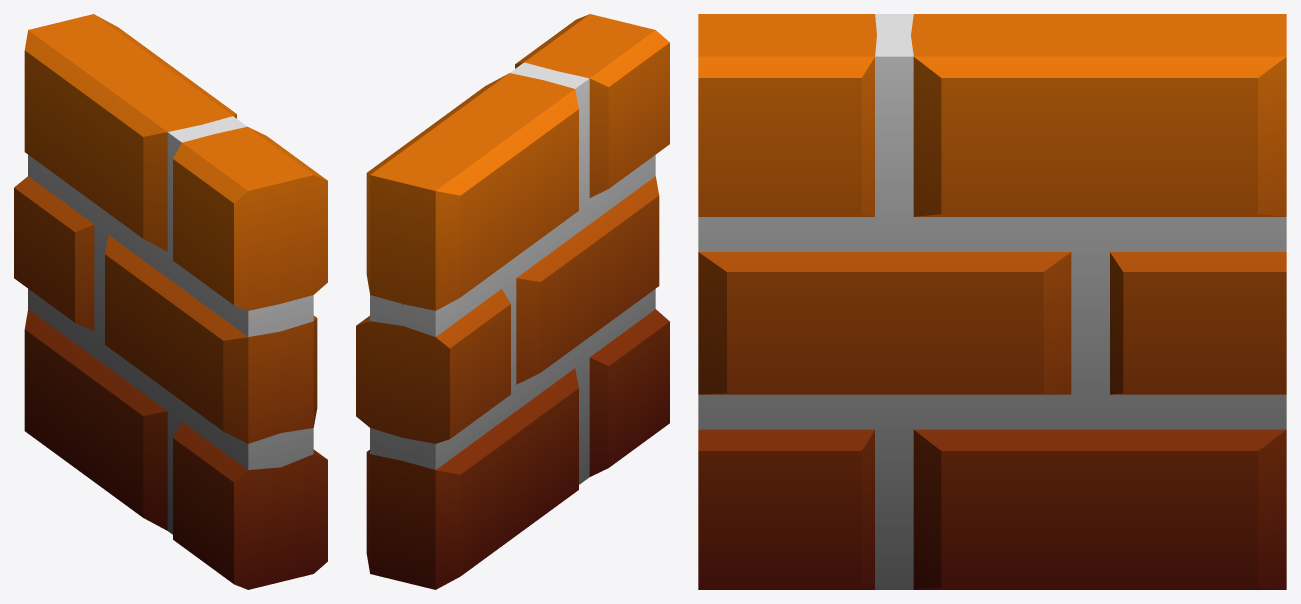
The model's file is Pared.fbx.
The picture shows the model from 3 angles, left to right: view 1: azimuth 30°, elevation 25°; view 2: azimuth 150°, elevation 25°; view 3: azimuth 270°, elevation 25°; orthographic projection. The views are drawn at different scales.
Parts seen in each view (by area): view 1: Cube; view 2: Cube; view 3: Cube.
Boxes of the visible parts, x1,y1,x2,y2 form: Cube: (14,14,327,589); Cube: (356,14,669,589); Cube: (698,14,1286,589).
Bounding box in the file's own units: 49.23 × 200 × 200.
